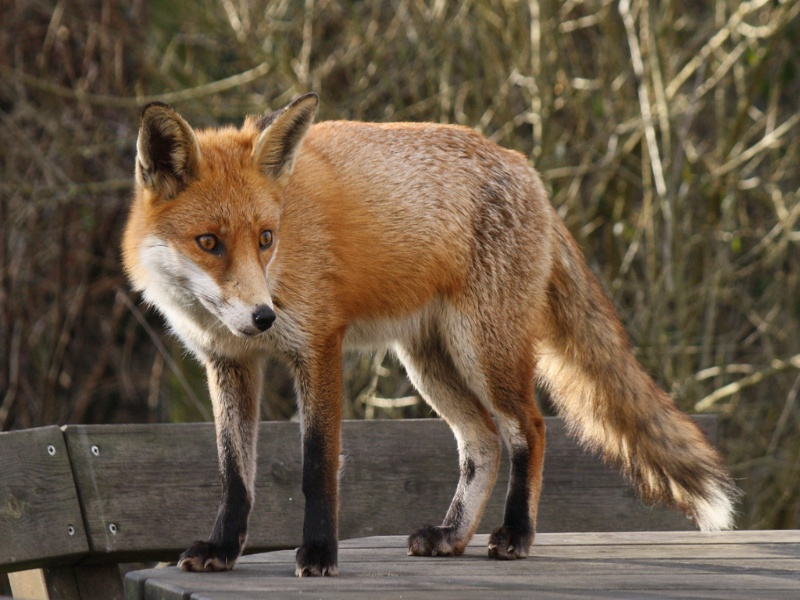fox: (115, 100, 740, 582)
